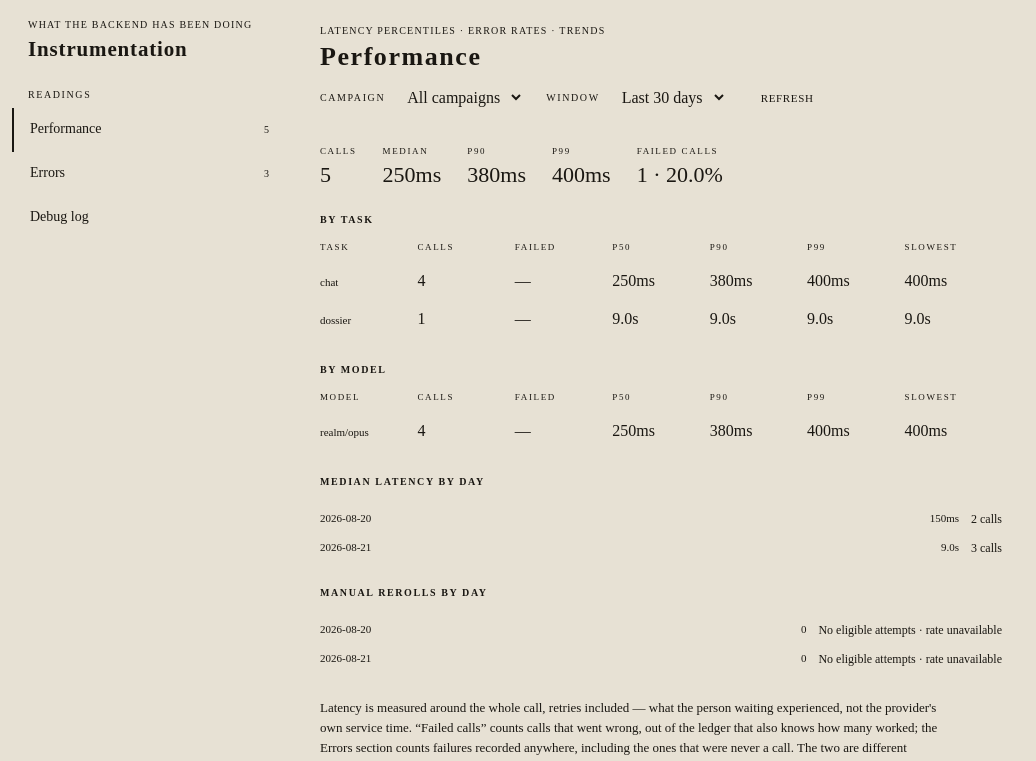
Test: says which module is empty, and offers the way back
The image size is (1036, 761).
Expected: the heading "Performance" is shown, [320,42,482,70]
Click the button "Errors 3" at [48, 173], box [12,152,286,196]
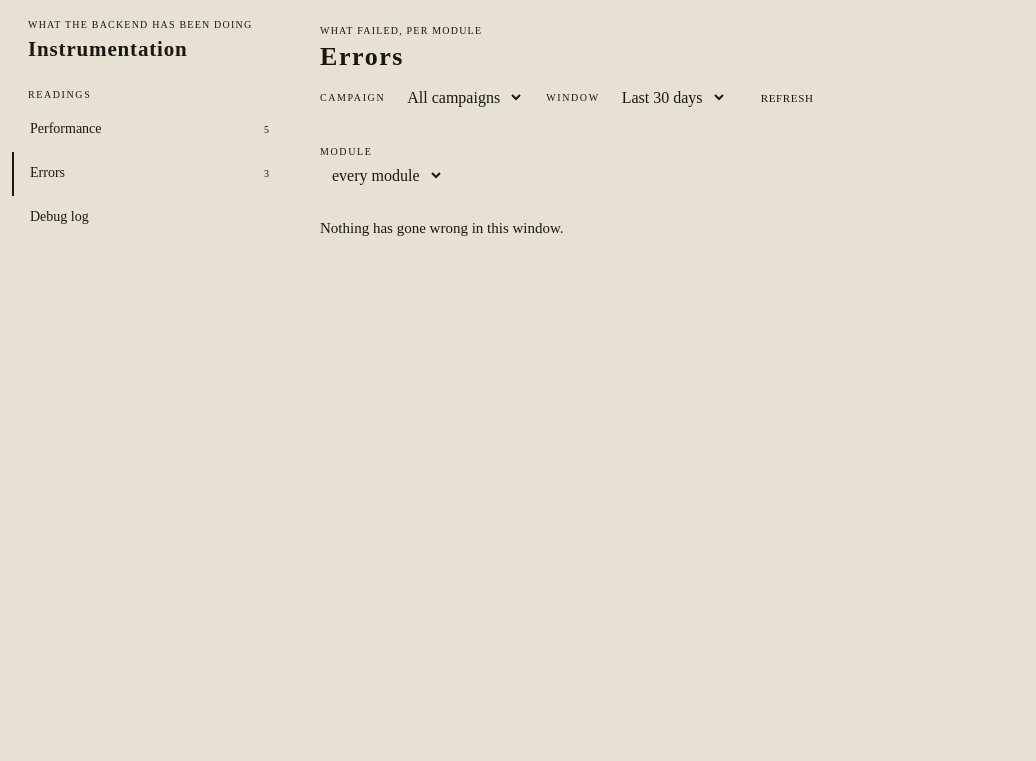
Expected: the text "Nothing has gone wrong in this window." is shown, [320,220,564,236]
Select "dossier" in the dropdown named "Module to report on" at [382, 176], box [320,161,444,190]
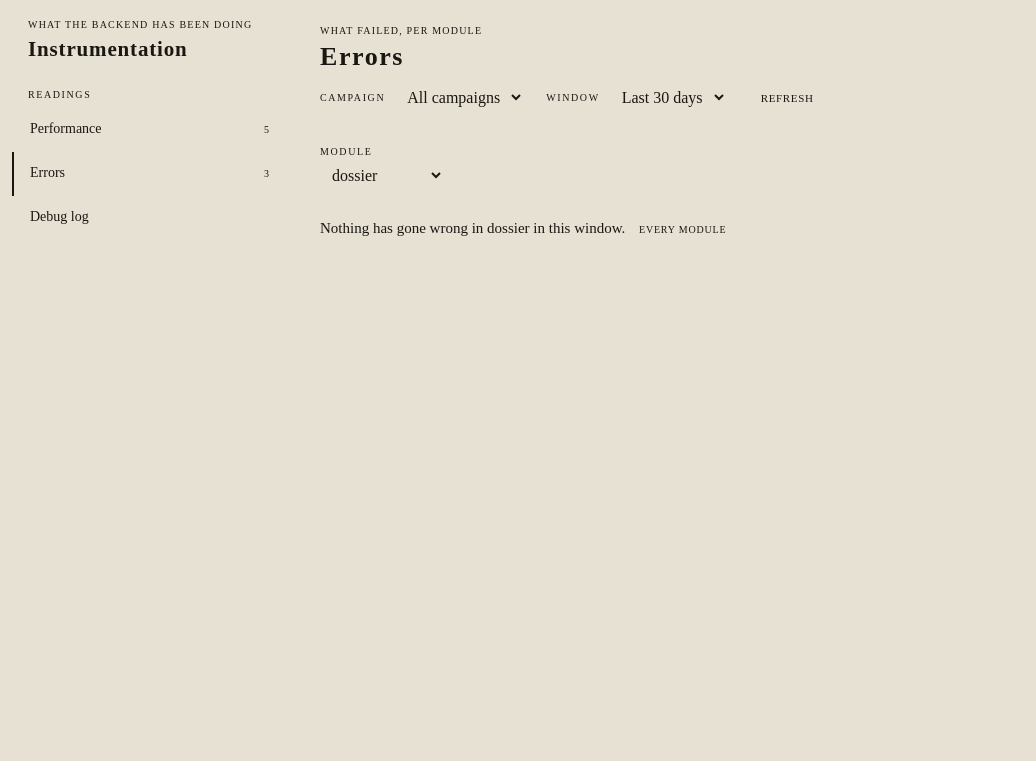
Expected: the text "Nothing has gone wrong in dossier in this window." is shown, [320,220,625,236]
Expected: the button "every module" is shown, [629,220,736,239]
